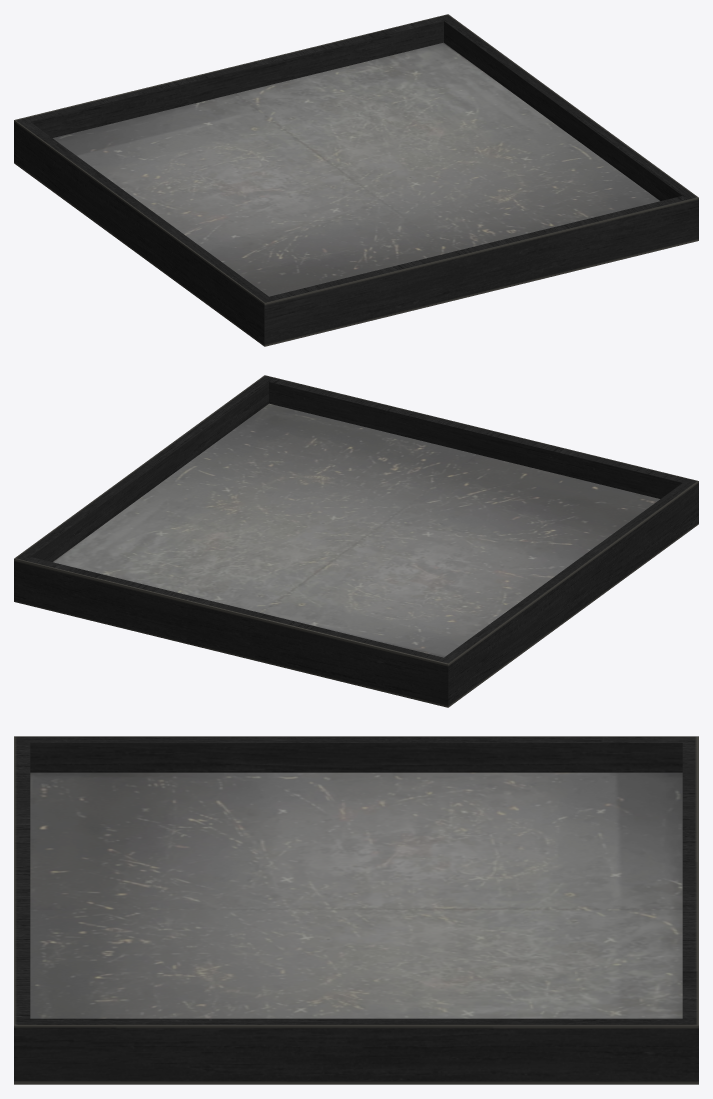
Rendered from Drive Test Box.fbx.
3 renders of one model, top to bottom at view 1: azimuth 30°, elevation 25°; view 2: azimuth 150°, elevation 25°; view 3: azimuth 270°, elevation 25°, orthographic. The views are drawn at different scales.
Parts seen in each view (by area): view 1: ID2; view 2: ID2; view 3: ID2.
Part boxes in pixels (x1=…): ID2: x1=14, y1=14, x2=698, y2=346; ID2: x1=14, y1=375, x2=698, y2=707; ID2: x1=14, y1=736, x2=698, y2=1084.
Size of the model in its own units: 105 by 10 by 105.
1 material, 1 textured.
